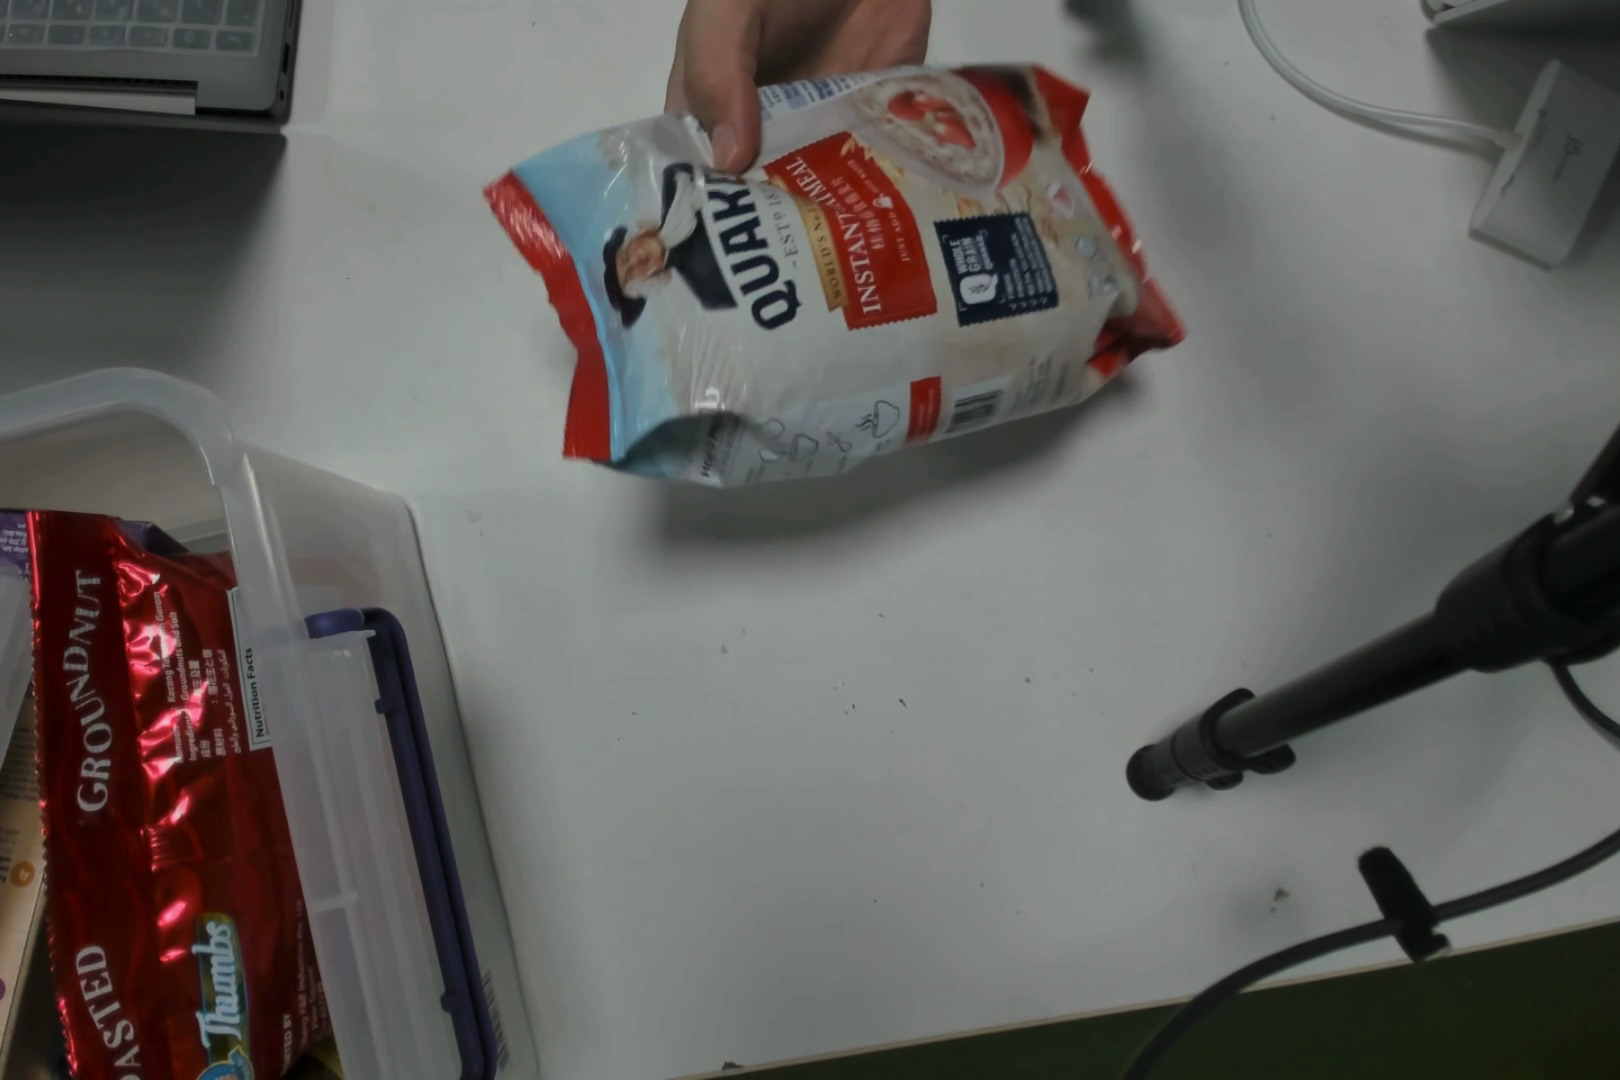RolledOatsInstantOatmeal_400-499g_Halal_Healthy: (576, 88, 1195, 465)
